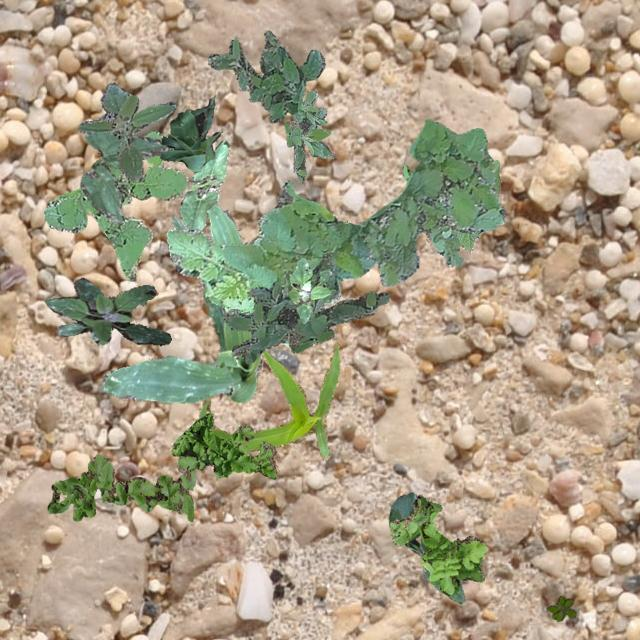crop: (101, 204, 262, 402), (198, 342, 338, 458), (388, 492, 463, 602), (80, 130, 168, 222), (158, 94, 222, 170), (450, 160, 500, 252), (180, 140, 228, 230)
weed: (165, 119, 504, 348), (42, 130, 186, 280), (222, 252, 388, 362), (206, 30, 324, 121), (76, 80, 175, 180), (46, 454, 195, 520), (388, 494, 486, 594), (44, 276, 170, 344), (172, 412, 276, 478), (284, 88, 334, 182), (288, 256, 332, 322), (546, 594, 574, 620), (402, 164, 412, 182)
